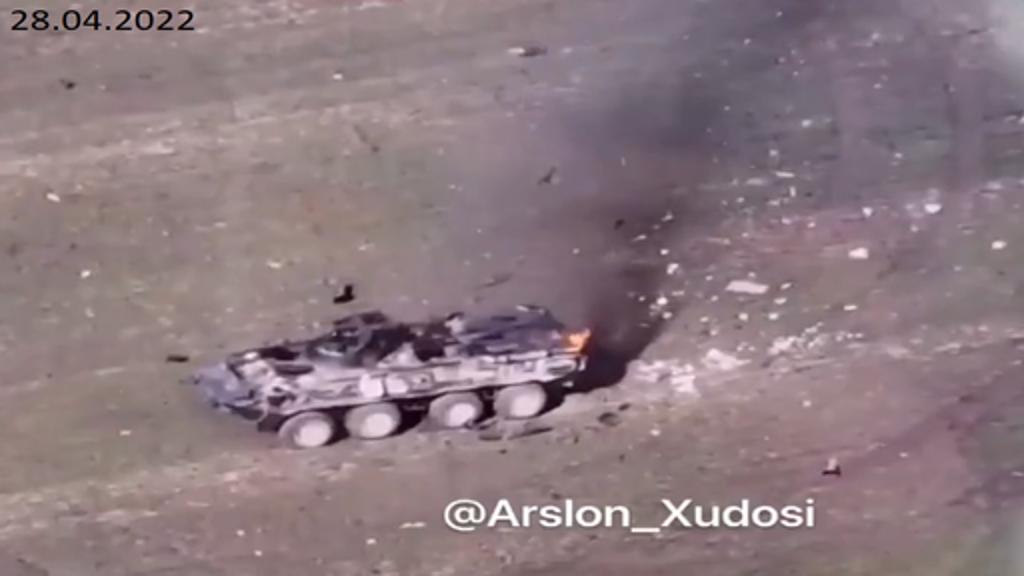APC-IFV: (164, 278, 598, 454)
